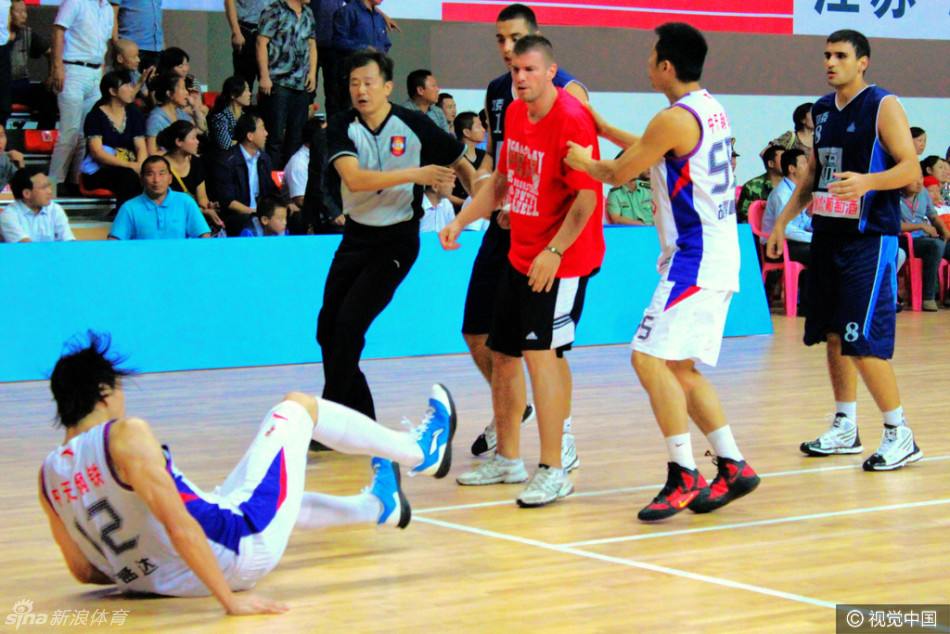10+: (14, 9, 931, 569)
down: (38, 327, 466, 616)
